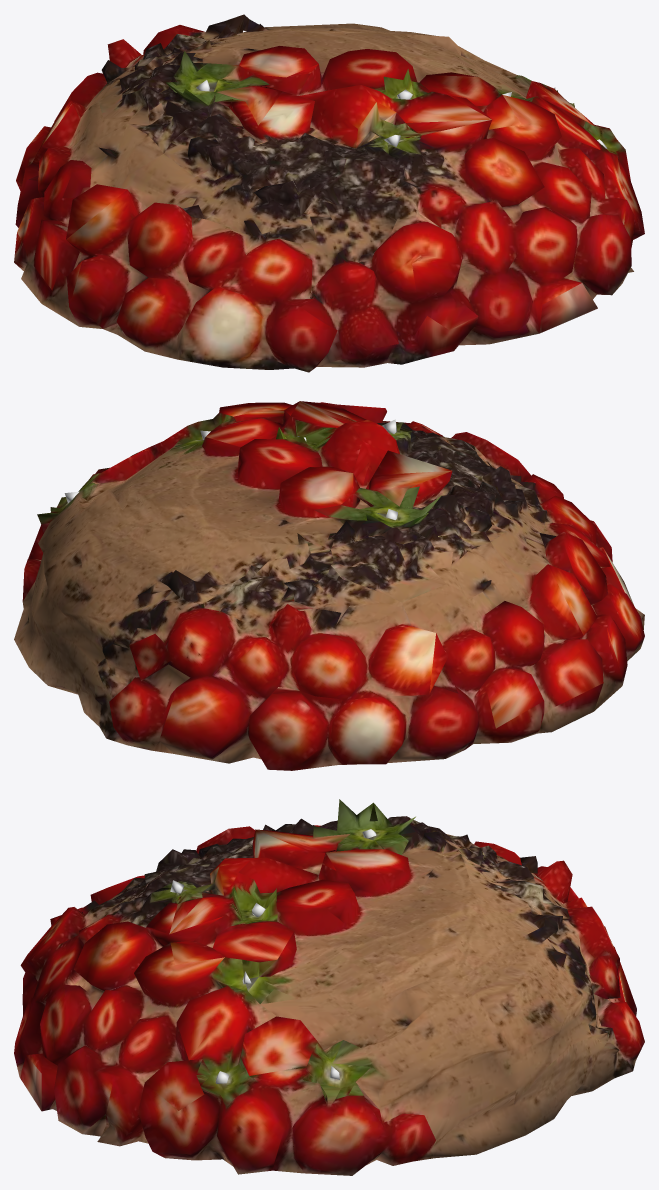
File: choc_cake.glb
3 views of the same model, one above another, from view 1: azimuth 30°, elevation 25°; view 2: azimuth 150°, elevation 25°; view 3: azimuth 270°, elevation 25° (orthographic). The views are drawn at different scales.
Parts seen in each view (by area): view 1: choc_cake; view 2: choc_cake; view 3: choc_cake.
Boxes of the visible parts, x1=… form: choc_cake: x1=14, y1=14, x2=644, y2=372; choc_cake: x1=14, y1=401, x2=644, y2=770; choc_cake: x1=14, y1=799, x2=644, y2=1175.
Size of the model in its own units: 0.243 by 0.0775 by 0.2396.
Materials: 1 (1 with a texture image).
